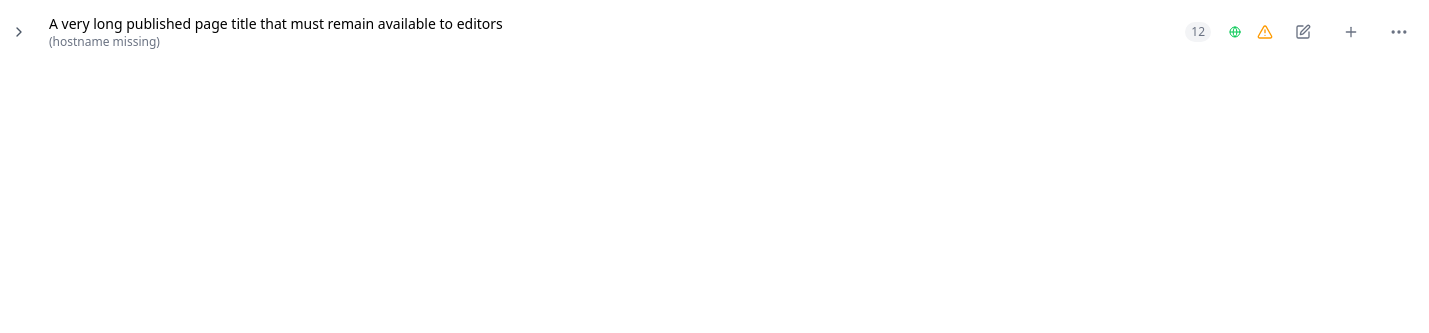
it: PageTreeNode responsive actions and metadata › translates page tree actions when Swedish is selected
Click the button named "Fler åtgärder för A very long published page title that must" at (1399, 32), box [1377,10,1421,54]
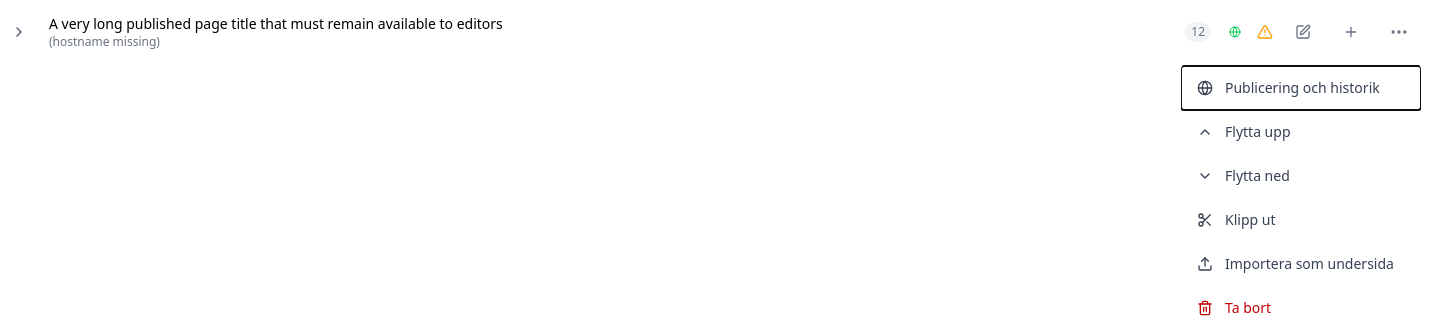
Expected: the menu item "Publicering och historik" is shown, [1181,66,1421,110]
Expected: the menu item "Importera som undersida" is shown, [1181,242,1421,286]
Expected: the menu item "Klipp ut" is shown, [1181,198,1421,242]
